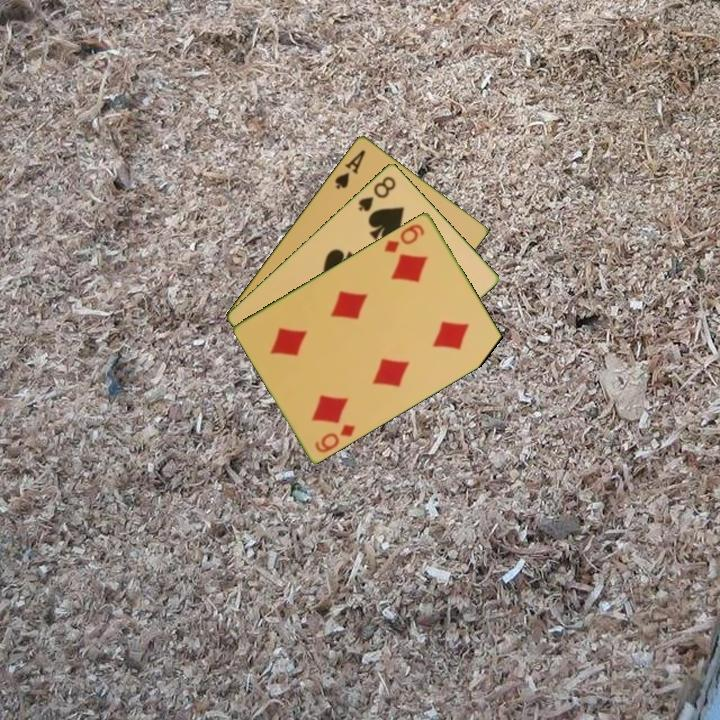6d: (380, 220, 427, 256), (311, 420, 359, 455)
8s: (355, 172, 399, 214)
As: (331, 146, 368, 192)
